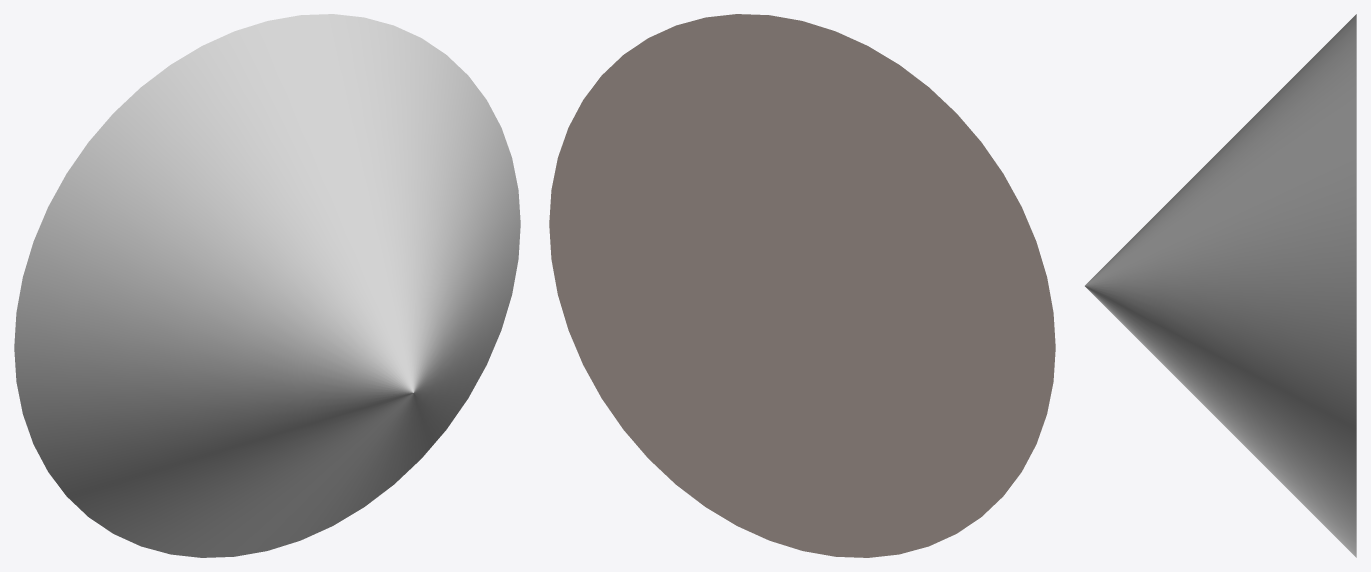
3 views of the same model, side by side, from view 1: azimuth 30°, elevation 25°; view 2: azimuth 150°, elevation 25°; view 3: azimuth 270°, elevation 25° (orthographic). The views are drawn at different scales.
Visible parts, largest first — view 1: Cone; view 2: Bottom; view 3: Cone.
Boxes of the visible parts, x1,y1,x2,y2 form: Cone: (14, 14, 520, 557); Bottom: (549, 14, 1055, 557); Cone: (1085, 14, 1356, 557).
Size of the model in its own units: 50 by 50 by 25.
